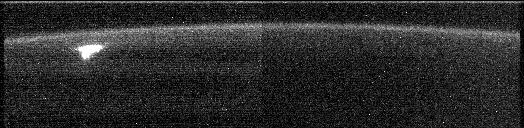positive: (70, 41, 106, 61)
